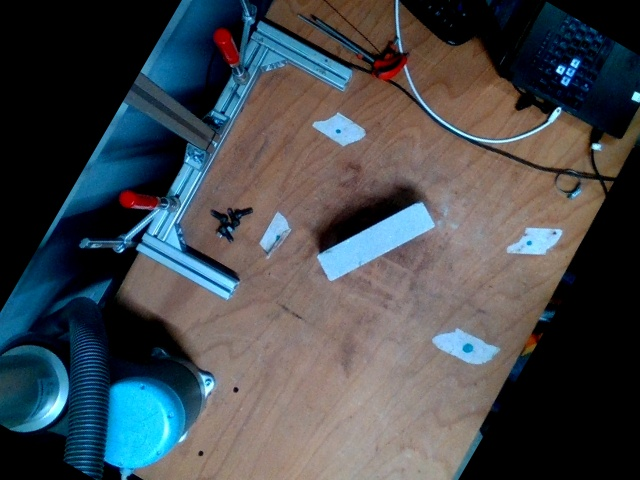brick-side: (316, 202, 435, 282)
